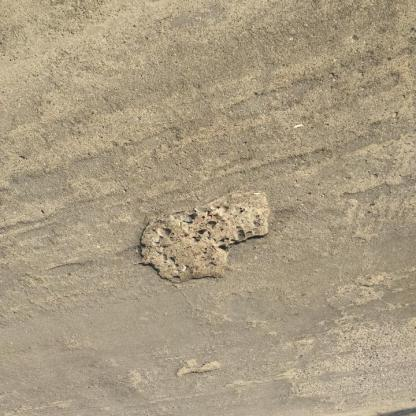pothole: (139, 192, 276, 291), (174, 361, 223, 379)
